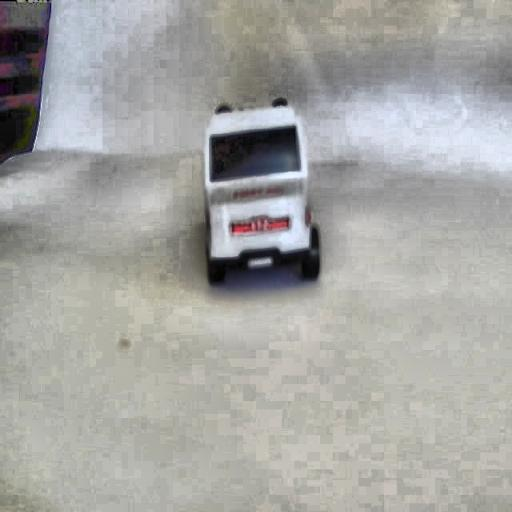ambulance: (203, 98, 320, 285)
